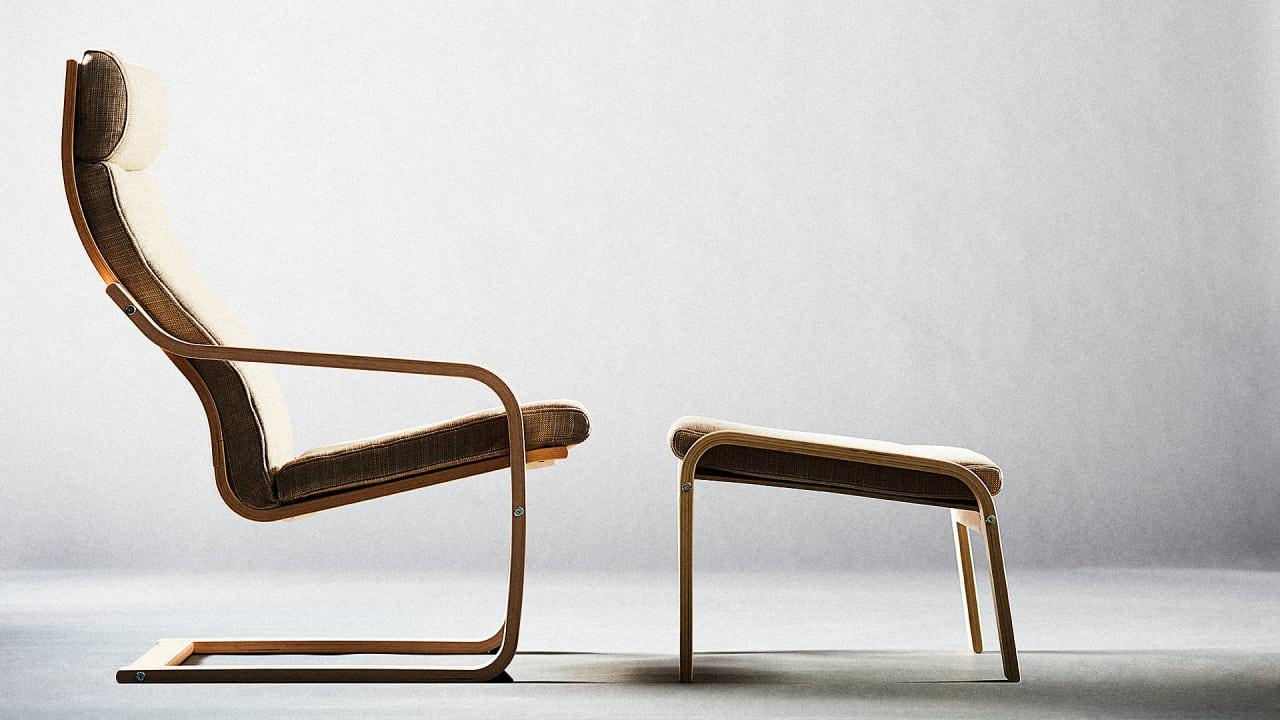chair: (52, 26, 610, 711)
